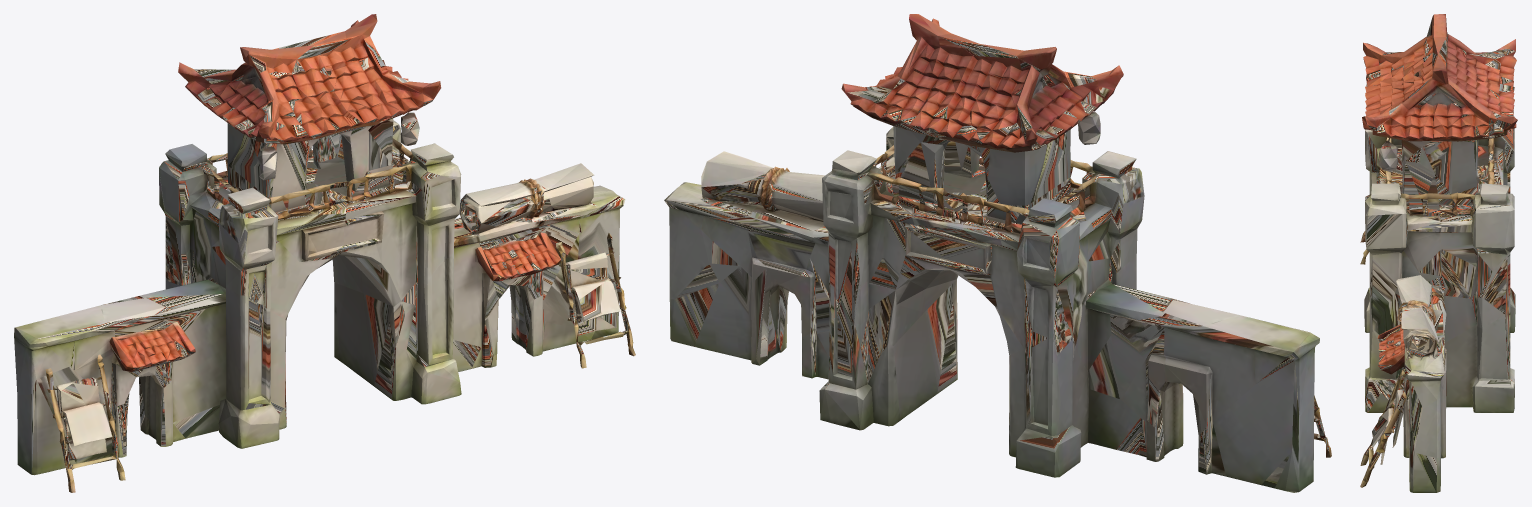
Rendered from cong-lang-giay-xa.4488ae8a.glb.
The picture shows the model from 3 angles, left to right: view 1: azimuth 30°, elevation 25°; view 2: azimuth 150°, elevation 25°; view 3: azimuth 270°, elevation 25°; orthographic projection. The views are drawn at different scales.
Visible parts, largest first — view 1: tripo_node_a24edd46-532c-49d4-b4dc-27e4c0dc1a52; view 2: tripo_node_a24edd46-532c-49d4-b4dc-27e4c0dc1a52; view 3: tripo_node_a24edd46-532c-49d4-b4dc-27e4c0dc1a52.
Boxes of the visible parts, box(x1,y1,x2,y2) form: tripo_node_a24edd46-532c-49d4-b4dc-27e4c0dc1a52: box(14, 14, 635, 492); tripo_node_a24edd46-532c-49d4-b4dc-27e4c0dc1a52: box(664, 14, 1331, 492); tripo_node_a24edd46-532c-49d4-b4dc-27e4c0dc1a52: box(1360, 14, 1517, 492).
Bounding box in the file's own units: 0.979 × 0.5669 × 0.2508.
Materials: 1 (1 with a texture image).
